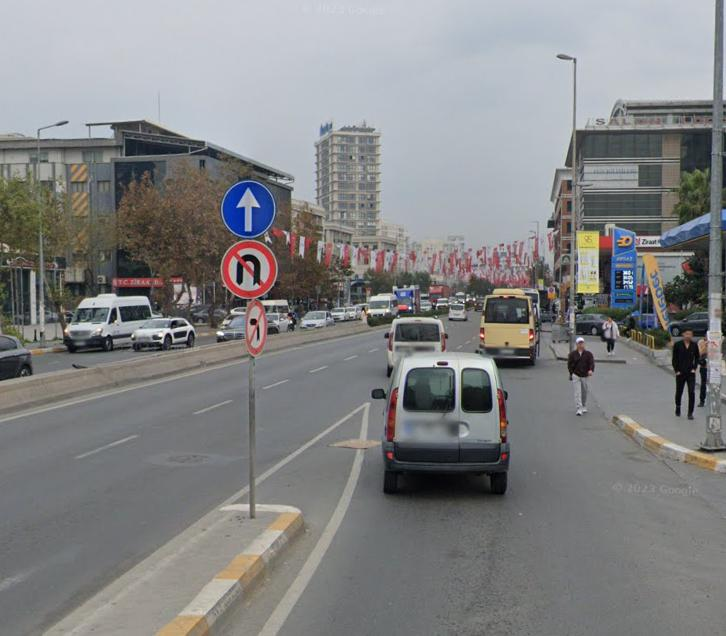forward: (221, 180, 276, 236)
leftturnsareforbidden: (246, 301, 267, 356)
